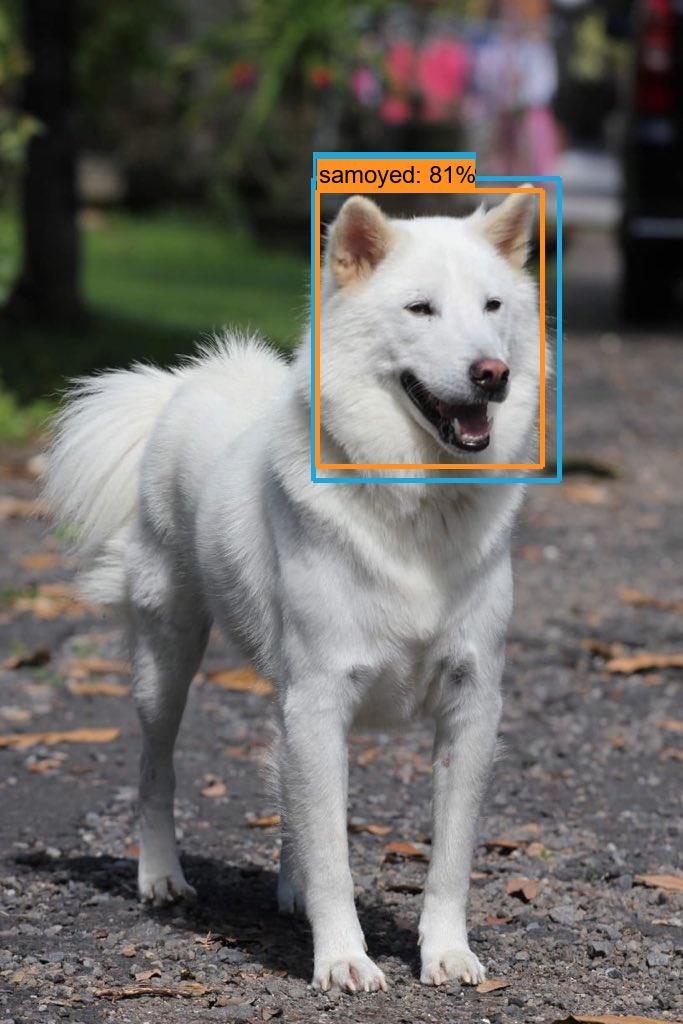kintamani: (277, 194, 575, 487)
